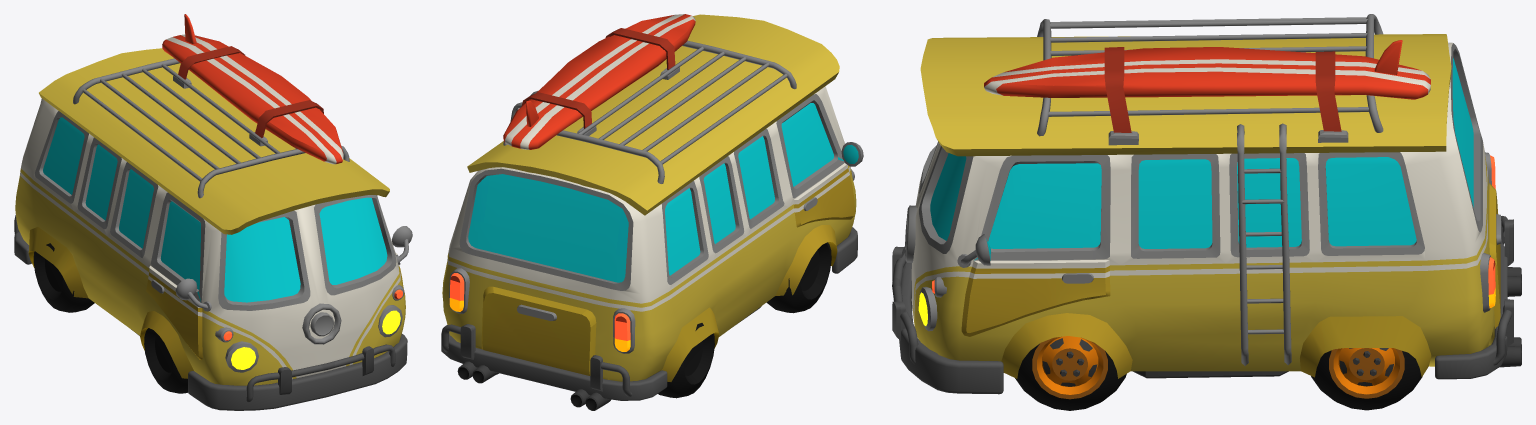
File: VEH22_A.fbx
3 renders of one model, left to right at view 1: azimuth 30°, elevation 25°; view 2: azimuth 150°, elevation 25°; view 3: azimuth 270°, elevation 25°, orthographic. The views are drawn at different scales.
Visible parts, largest first — view 1: VEH22_A, VEH22A_BodyParts, VEH22A_Wheel_BR, VEH22A_Wheel_FR; view 2: VEH22_A, VEH22A_BodyParts, VEH22A_Wheel_FR, VEH22A_Wheel_BR; view 3: VEH22_A, VEH22A_BodyParts, VEH22A_Wheel_FL, VEH22A_Wheel_BL.
Boxes of the visible parts, left/top/right/bottom form: VEH22_A: left=14, top=48, right=412, bottom=410; VEH22A_BodyParts: left=162, top=14, right=343, bottom=164; VEH22A_Wheel_BR: left=33, top=243, right=94, bottom=312; VEH22A_Wheel_FR: left=144, top=328, right=187, bottom=393; VEH22_A: left=441, top=14, right=863, bottom=410; VEH22A_BodyParts: left=503, top=14, right=695, bottom=149; VEH22A_Wheel_FR: left=766, top=242, right=831, bottom=313; VEH22A_Wheel_BR: left=658, top=323, right=714, bottom=398; VEH22_A: left=892, top=14, right=1521, bottom=394; VEH22A_BodyParts: left=984, top=40, right=1430, bottom=365; VEH22A_Wheel_FL: left=1015, top=336, right=1126, bottom=410; VEH22A_Wheel_BL: left=1311, top=348, right=1422, bottom=410.
Bounding box in the file's own units: 269 × 278 × 464.
Materials: 1 (1 with a texture image).
